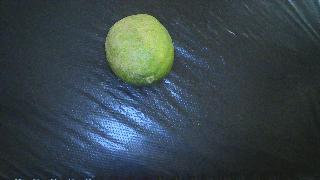DESECHO: (105, 14, 174, 86)
